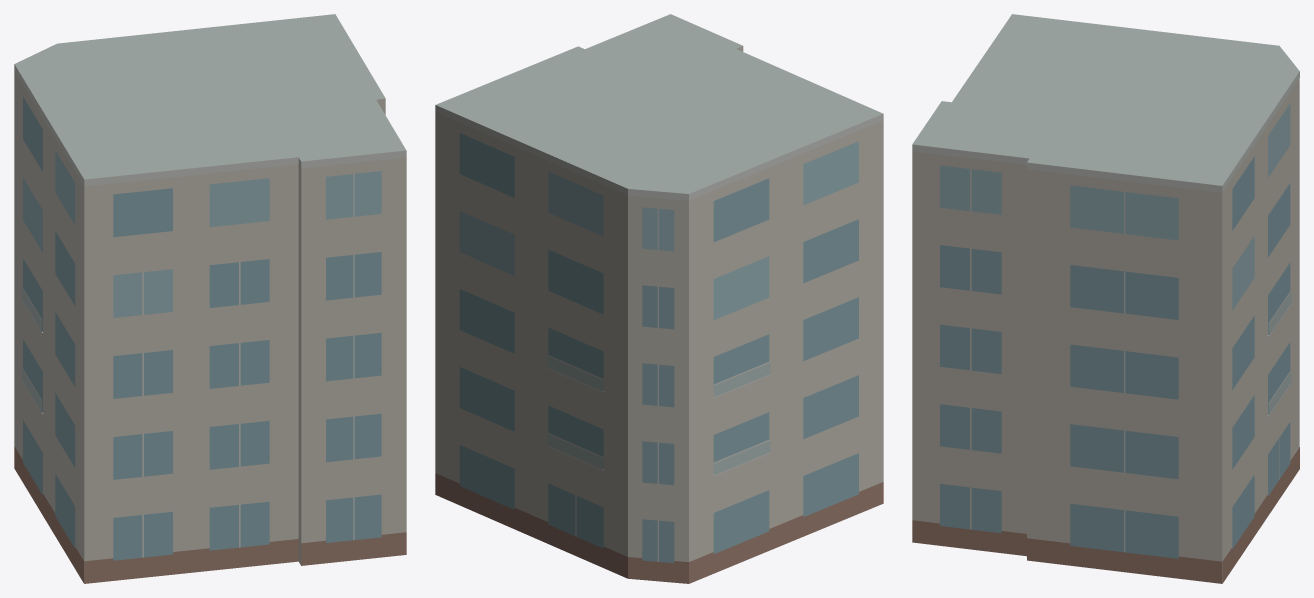
The model's file is survey-upis-33017727.glb.
The picture shows the model from 3 angles, left to right: view 1: azimuth 30°, elevation 25°; view 2: azimuth 150°, elevation 25°; view 3: azimuth 270°, elevation 25°; orthographic projection. The views are drawn at different scales.
Parts seen in each view (by area): view 1: survey-upis-33017727.tmp; view 2: survey-upis-33017727.tmp; view 3: survey-upis-33017727.tmp.
Part boxes in pixels (<box>): survey-upis-33017727.tmp: <box>14,14,406,583</box>; survey-upis-33017727.tmp: <box>435,14,883,583</box>; survey-upis-33017727.tmp: <box>912,14,1299,583</box>.
Bounding box in the file's own units: 13.26 × 14.3 × 12.63.
